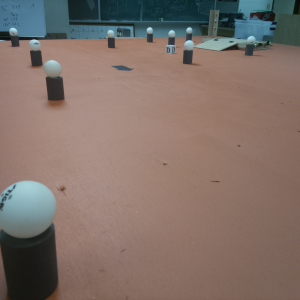obstacle: (2, 177, 60, 298), (43, 60, 65, 101), (29, 39, 43, 67), (183, 40, 193, 62), (9, 27, 19, 46), (107, 29, 115, 48), (246, 35, 253, 55), (146, 26, 153, 44), (185, 26, 193, 40), (167, 30, 175, 43)
slope: (197, 41, 236, 52)
